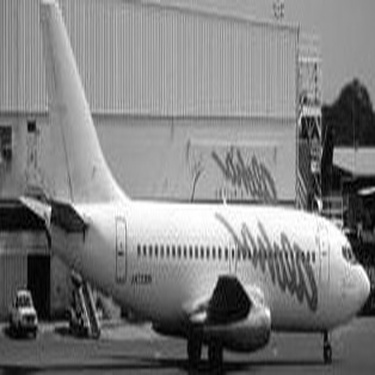airplane: (1, 1, 370, 369)
